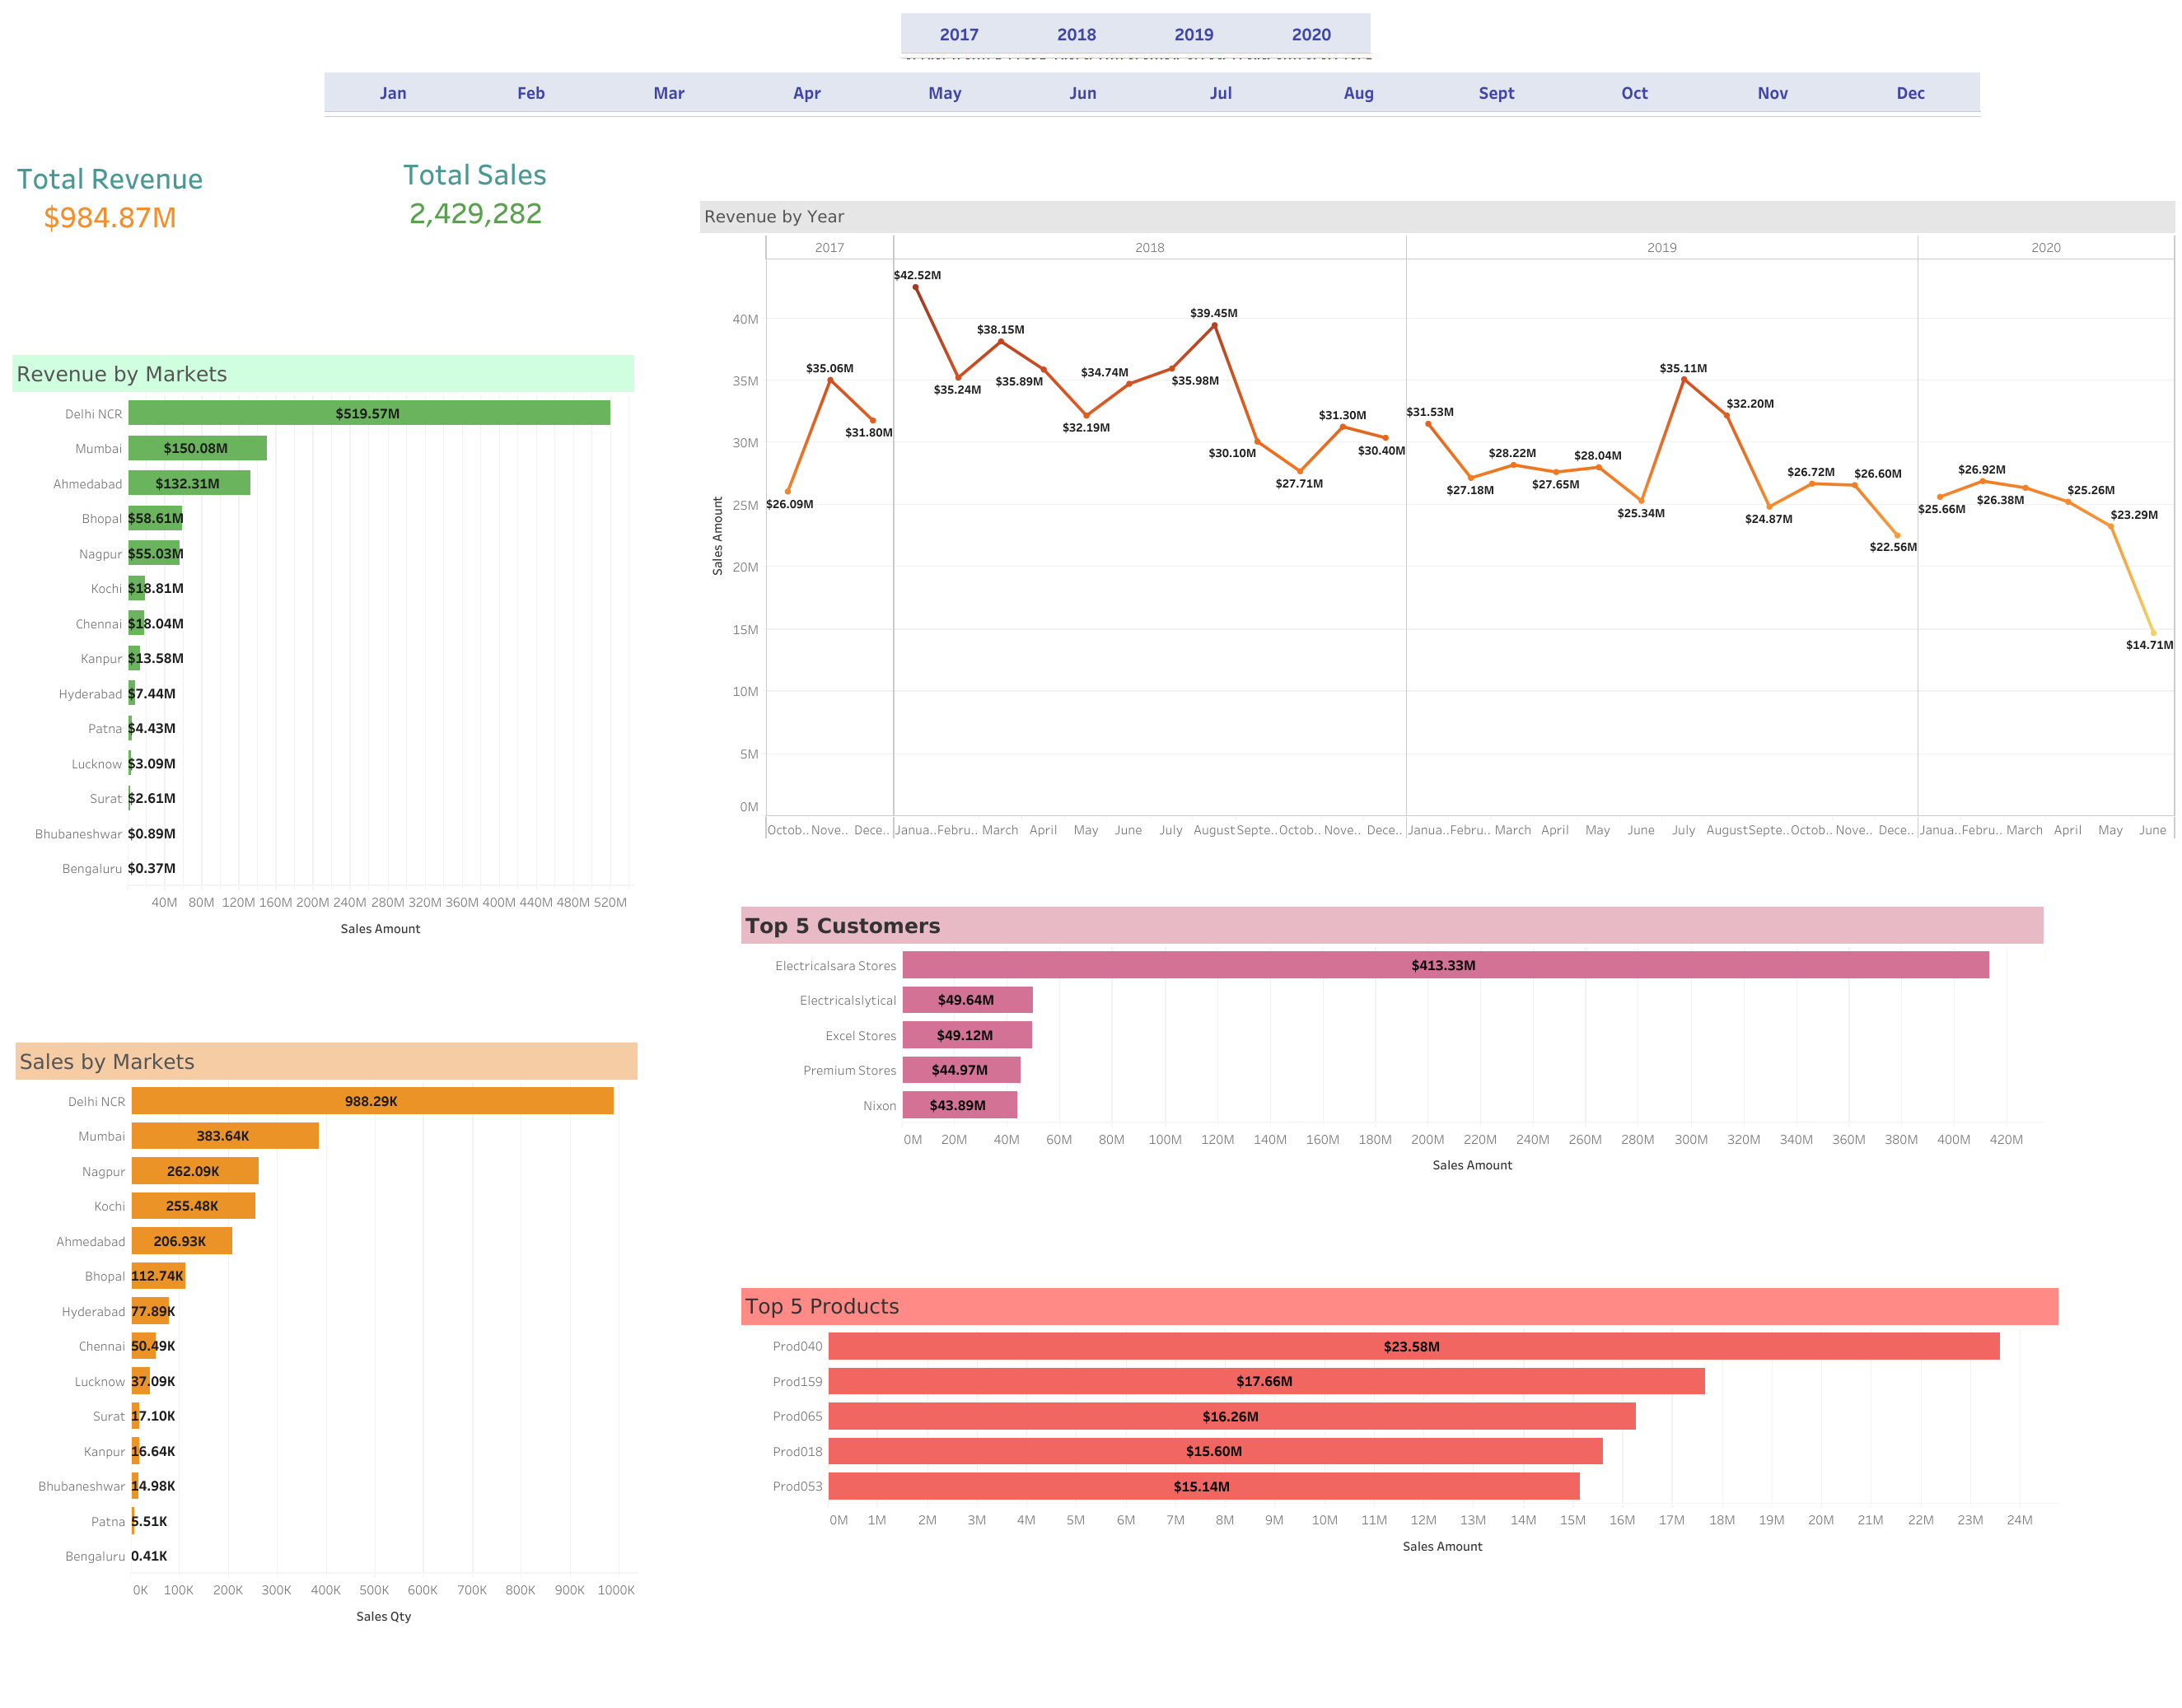

The page's visual inventory and layout, read from the dashboard file:
{"tool":"tableau","page":{"name":"Sales_Insight-1.0","canvas":[1000,1000],"units":"permille","ordinal":0},"visuals":[{"type":"worksheet","title":"Year","mark":"Automatic","cols":["cy_date"],"box":[412.7,7.8,223.6,27.7]},{"type":"worksheet","title":"Months","mark":"Automatic","cols":["cy_date"],"box":[148.6,42.2,792.9,34.3]},{"type":"worksheet","title":"Total Sales","mark":"Automatic","box":[180.2,89.8,105.7,73.5]},{"type":"worksheet","title":"Total Revenue","mark":"Automatic","box":[3.3,92.2,132.1,74.1]},{"type":"worksheet","title":"Revenue by Year","mark":"Automatic","rows":["sales_amount"],"cols":["cy_date","cy_date"],"box":[320.8,117.5,675.9,373.5]},{"type":"worksheet","title":"Revenue by Markets","mark":"Automatic","rows":["markets_name"],"cols":["sales_amount"],"box":[5.7,207.8,284.9,361.4]},{"type":"worksheet","title":"Top 5 Customers","mark":"Automatic","rows":["custmer_name"],"cols":["sales_amount"],"box":[339.6,530.7,596.7,174.7]},{"type":"worksheet","title":"Sales by Markets","mark":"Automatic","rows":["markets_name"],"cols":["sales_qty"],"box":[7.1,610.2,284.9,367.5]},{"type":"worksheet","title":"Top 5 Products","mark":"Automatic","rows":["product_code (Products)"],"cols":["sales_amount"],"box":[339.6,753.6,603.3,188]}]}

Visuals, with their boxes on the dashboard's canvas, which has no fixed pixel size, in thousandths of its width and height (x1, y1, x2, y2). These are canvas units, not pixel positions in the 2182x1708 screenshot, which may show the page scaled, cropped or inside an application window:
"Year" worksheet: bbox(413, 8, 636, 36)
"Months" worksheet: bbox(149, 42, 942, 76)
"Total Sales" worksheet: bbox(180, 90, 286, 163)
"Total Revenue" worksheet: bbox(3, 92, 135, 166)
"Revenue by Year" worksheet: bbox(321, 118, 997, 491)
"Revenue by Markets" worksheet: bbox(6, 208, 291, 569)
"Top 5 Customers" worksheet: bbox(340, 531, 936, 705)
"Sales by Markets" worksheet: bbox(7, 610, 292, 978)
"Top 5 Products" worksheet: bbox(340, 754, 943, 942)
